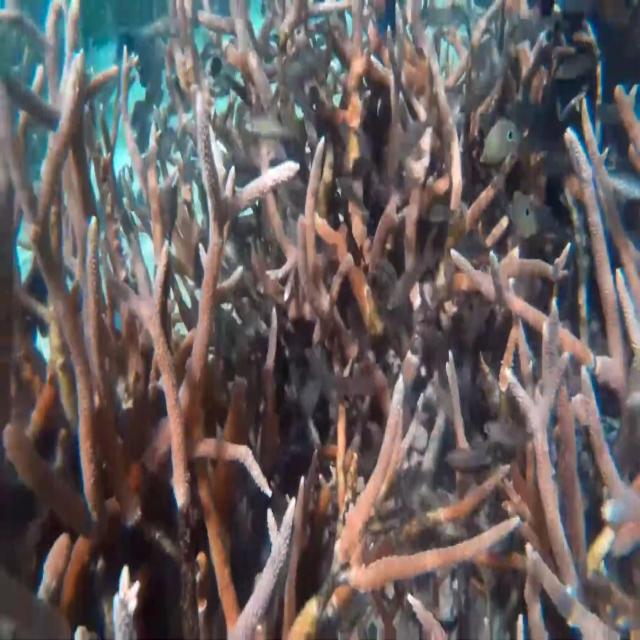Staghorn-Coral -Endangered-: (2, 7, 640, 640)
